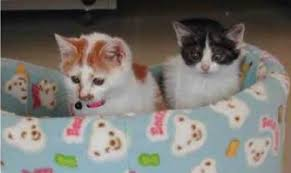cat: (49, 30, 165, 114), (163, 18, 249, 104)
